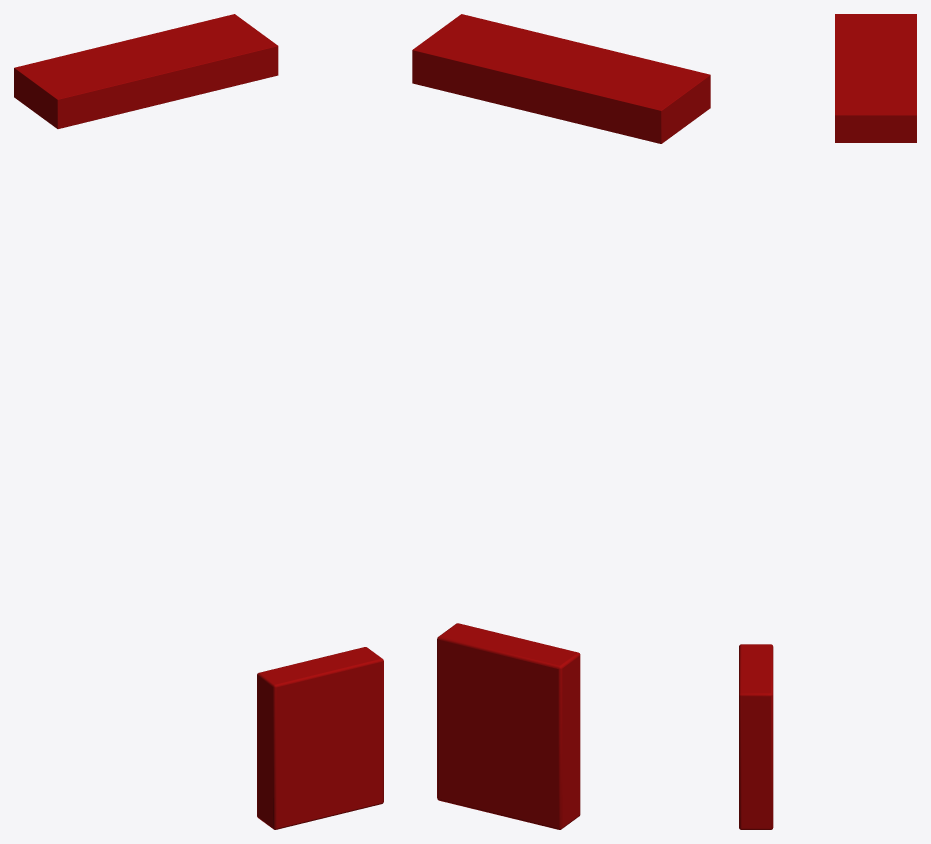
The model's file is base_link_control_red.obj.
3 views of the same model, side by side, from view 1: azimuth 30°, elevation 25°; view 2: azimuth 150°, elevation 25°; view 3: azimuth 270°, elevation 25° (orthographic). The views are drawn at different scales.
Parts seen in each view (by area): view 1: base_link__stop_button, base_link__side_charging_contact_bar; view 2: base_link__stop_button, base_link__side_charging_contact_bar; view 3: base_link__side_charging_contact_bar, base_link__stop_button.
Part boxes in pixels (x1,y1,x2,y2): base_link__stop_button: (257, 647, 383, 829); base_link__side_charging_contact_bar: (14, 14, 278, 128); base_link__stop_button: (437, 623, 580, 829); base_link__side_charging_contact_bar: (412, 14, 710, 143); base_link__side_charging_contact_bar: (835, 14, 916, 142); base_link__stop_button: (739, 644, 773, 829).
Bounding box in the file's own units: 0.0875 × 0.2225 × 0.052.
